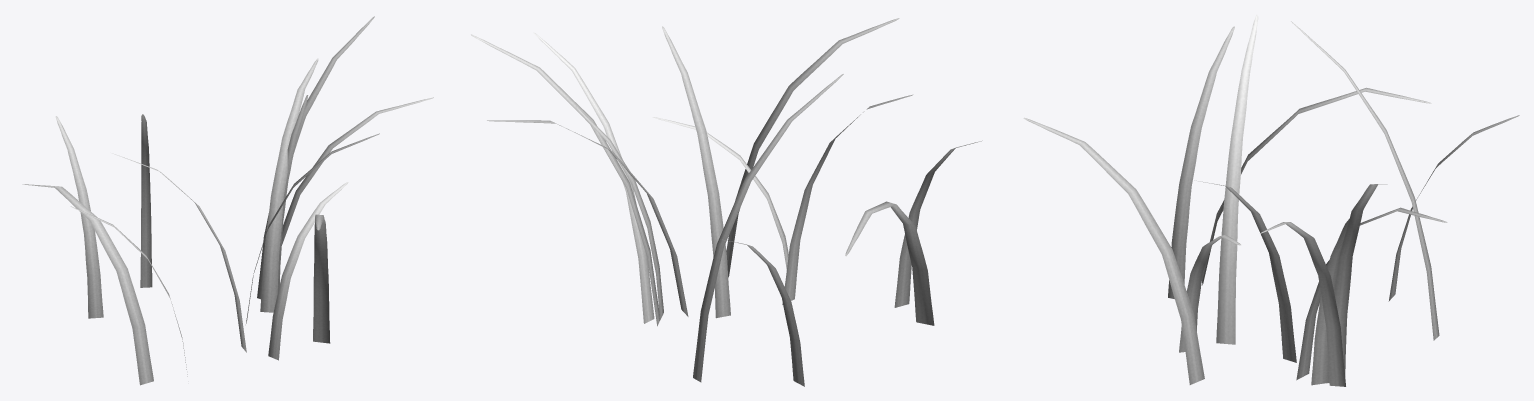
The model's file is tall.glb.
3 renders of one model, left to right at view 1: azimuth 30°, elevation 25°; view 2: azimuth 150°, elevation 25°; view 3: azimuth 270°, elevation 25°, orthographic. The views are drawn at different scales.
Parts seen in each view (by area): view 1: grass-tall; view 2: grass-tall; view 3: grass-tall.
Part boxes in pixels (left/top/right/bottom): grass-tall: left=22, top=16, right=433, bottom=385; grass-tall: left=471, top=18, right=982, bottom=386; grass-tall: left=1023, top=14, right=1519, bottom=386.
Bounding box in the file's own units: 0.5109 × 0.303 × 0.4938.
Materials: 1 (1 with a texture image).
